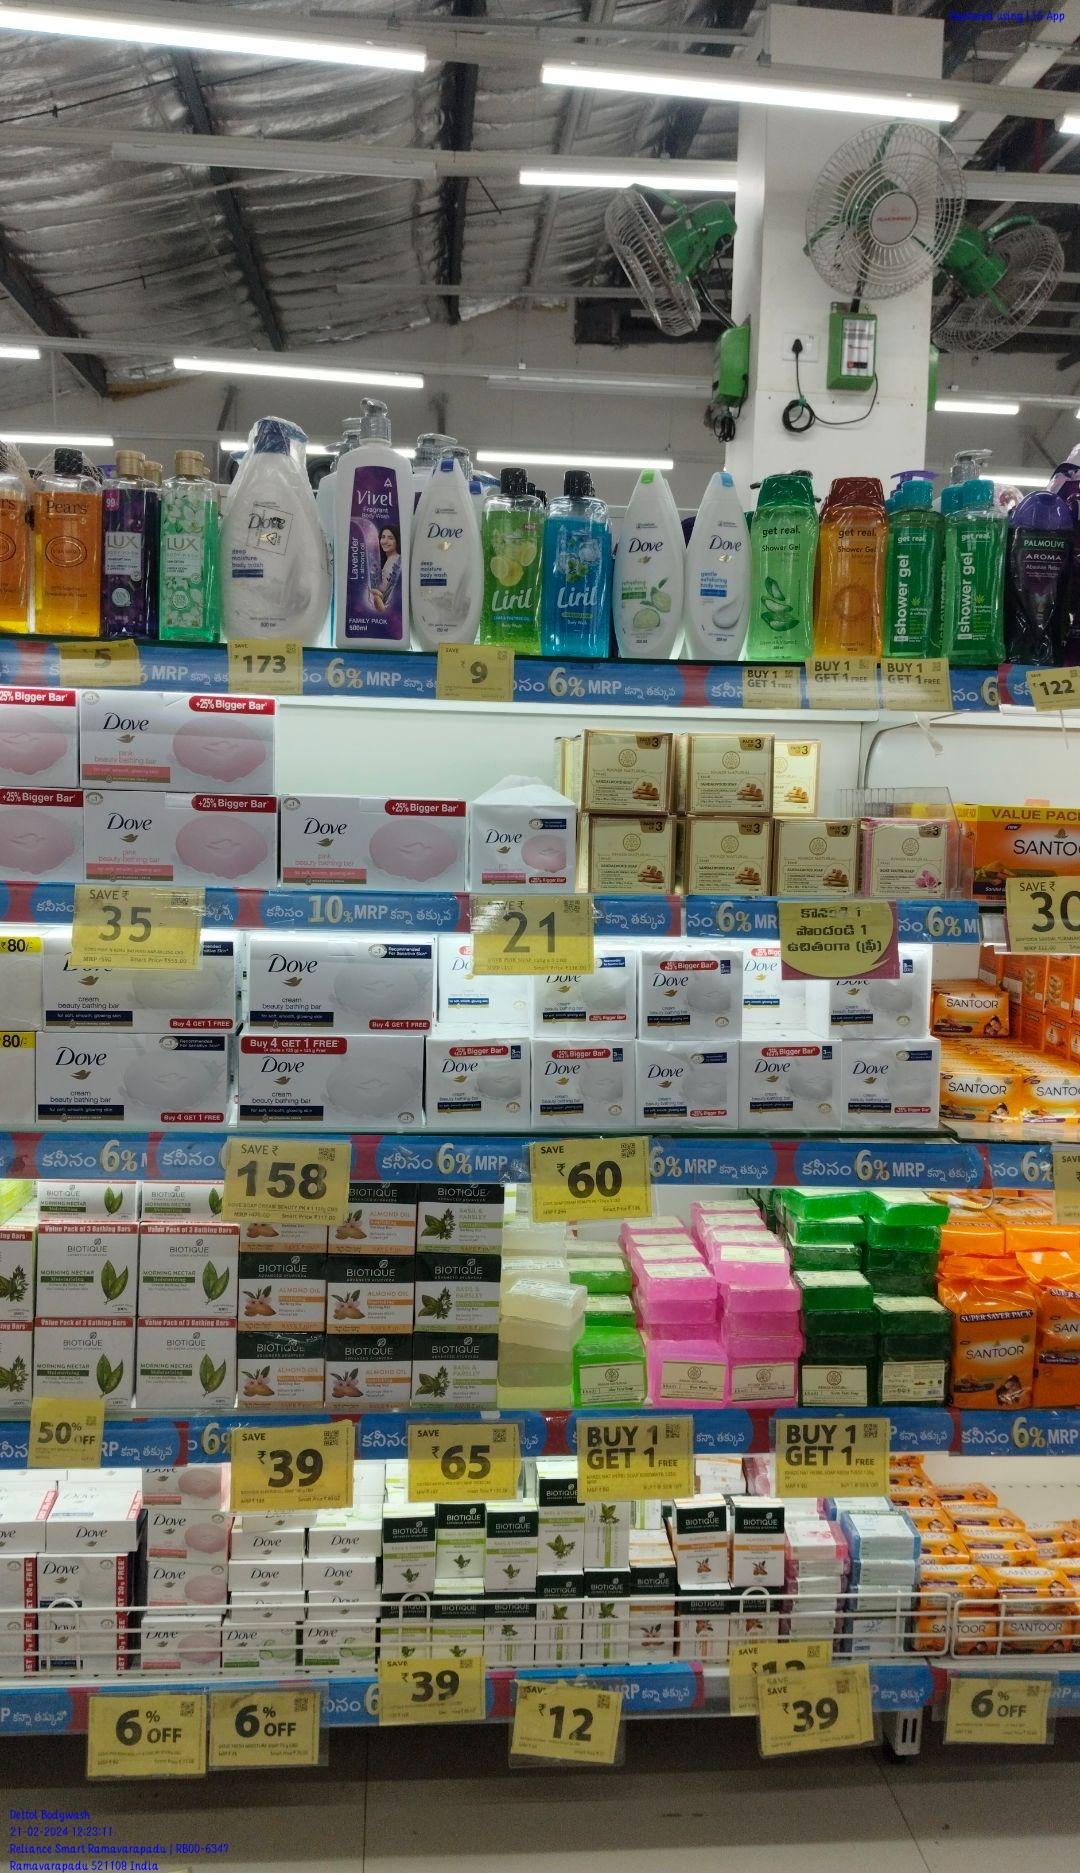Dove_Deep_Moisture_Body_Wash_250ML: (410, 453, 481, 641)
Dove_Gentle_Exfoliating_Body_Wash_250ML: (684, 466, 752, 660)
Dove_Refreshing_Body_Wash_250ML: (611, 467, 684, 656)
Get_Real_Shower_Gel_Moisturising_Glycerin_300ML: (816, 472, 887, 659)
Liril_Cooling_Mint_Body_Wash_250ML: (544, 464, 611, 656)
Liril_Lime_and_Tea_Tree_Oil_Body_Wash_250ML: (481, 464, 544, 651)
Lux_Black_Orchid_Scent_and_Juniper_Oil_Body_Wash_245ML: (100, 449, 158, 635)
Lux_Body_Wash_Skin_Detox_Freesia_Scent_and_Alove_Vera_245ML: (158, 449, 219, 638)
Palmolive_Aroma_Relax_250ML: (1007, 490, 1072, 662)
